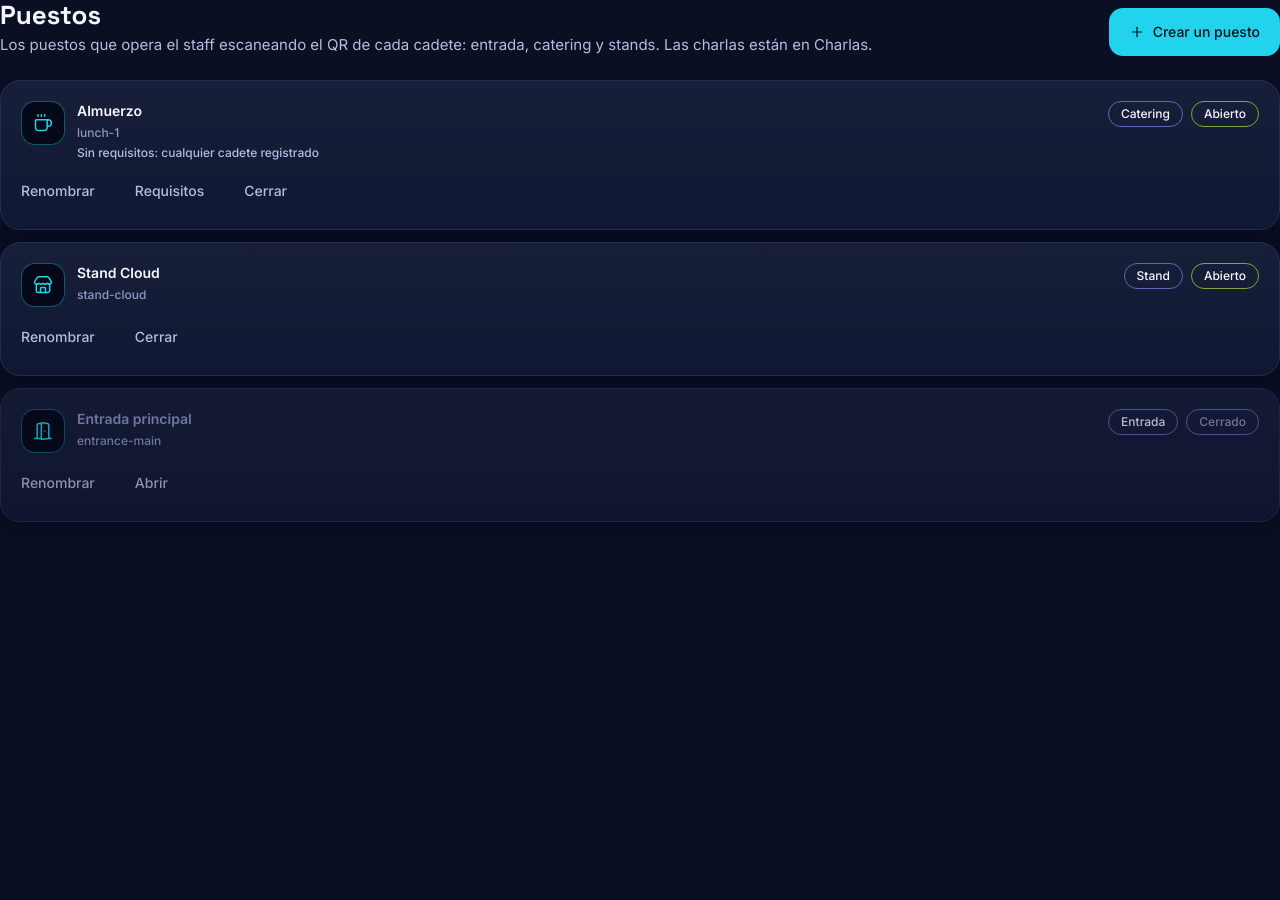
Test case: CheckpointsAdminView create › starts with catering selected and shows what each kind is for
Click the button "Crear un puesto" at (1194, 32), box x1=1109 y1=8 x2=1279 y2=56
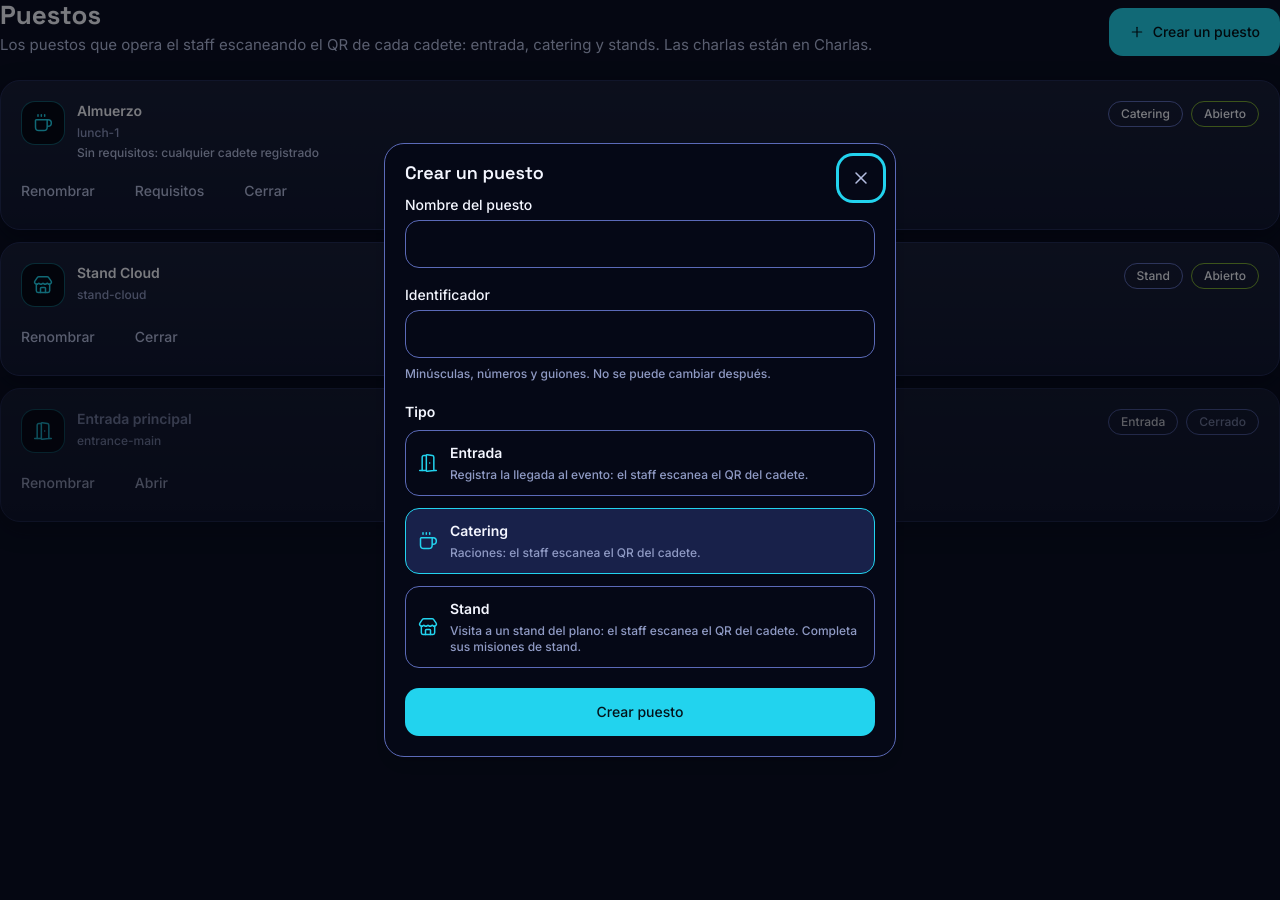
Expected: the radio button labelled "Catering Raciones: el staff escanea el QR del cadete." is checked, x1=405 y1=508 x2=875 y2=574
Expected: the text "Visita a un stand del plano: el staff escanea el QR del cadete. Completa sus misiones de stand." is shown, x1=450 y1=623 x2=857 y2=654
